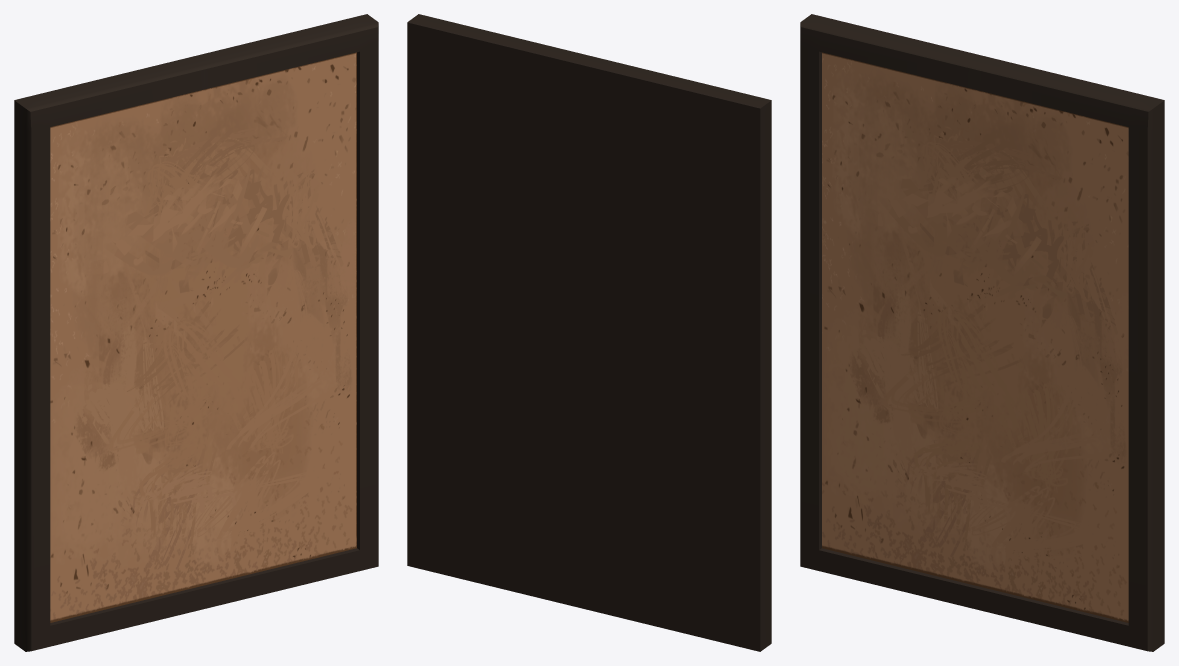
Rendered from bulletinboard.fbx.
3 views of the same model, side by side, from view 1: azimuth 30°, elevation 25°; view 2: azimuth 150°, elevation 25°; view 3: azimuth 330°, elevation 25° (orthographic).
Visible parts, largest first — view 1: pCube7; view 2: pCube7; view 3: pCube7.
Boxes of the visible parts, box(x1,y1,x2,y2) form: pCube7: box(14, 14, 378, 651); pCube7: box(407, 14, 771, 651); pCube7: box(800, 14, 1164, 651).
Size of the model in its own units: 0.8841 by 1.3 by 0.0621.
1 material, 1 textured.
